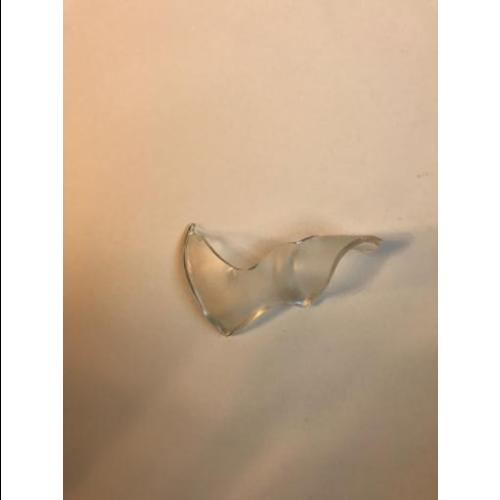glass: (190, 232, 358, 330)
